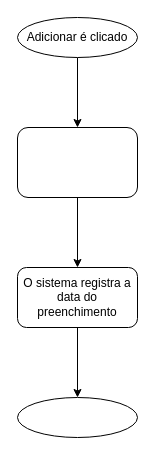
The diagram is 155 pixels wide and 455 high, and some of its shapes have lost their labels. Here are the shapes that lost their labels. From the top down, the box of each, then its label:
(16, 126, 138, 198): As informações essenciais são preenchidas
(16, 396, 138, 438): O Registro é adicionado
